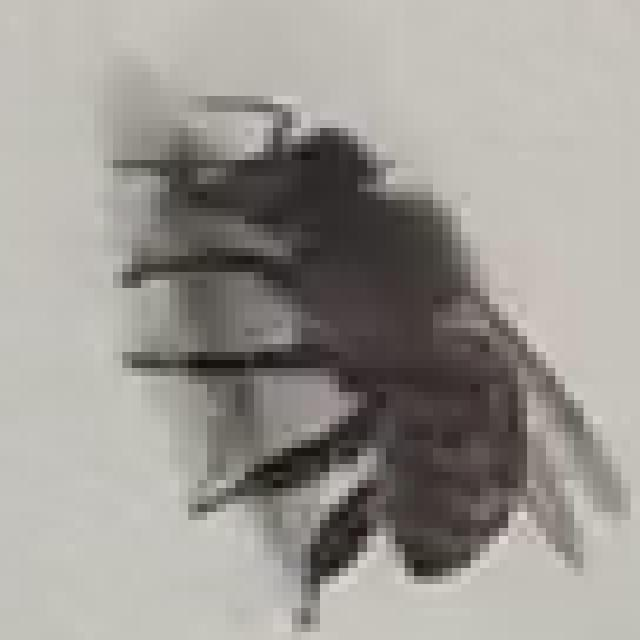honeybee: (136, 85, 610, 576)
